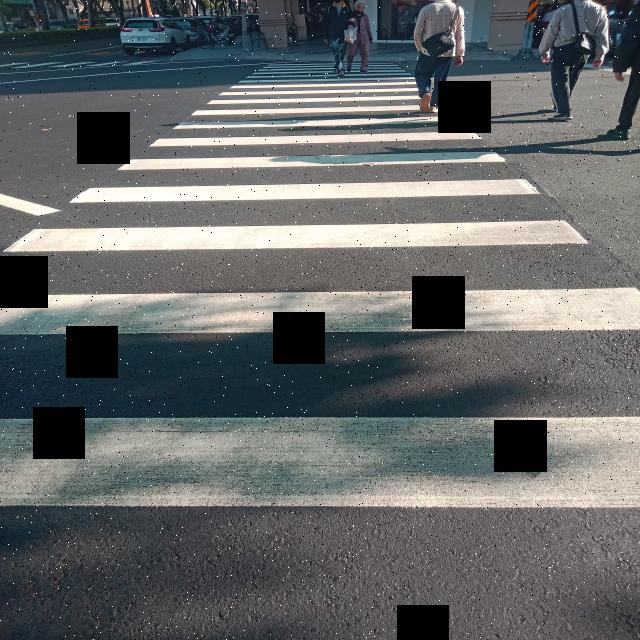person: (538, 0, 608, 121), (413, 0, 465, 112), (607, 2, 640, 139), (347, 0, 373, 74), (325, 0, 350, 76)
zebra crossing: (0, 56, 640, 515)
